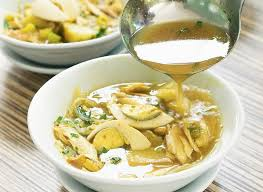soto: (26, 64, 258, 192)
